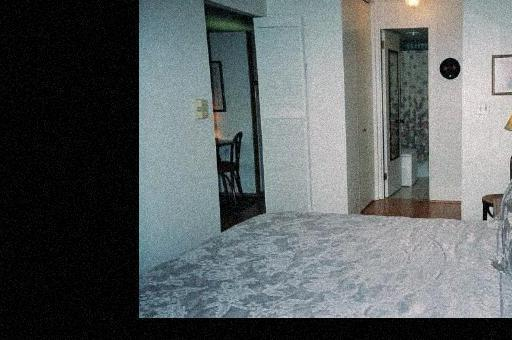Armario: (355, 0, 376, 207)
Puerta: (255, 17, 305, 208), (382, 33, 400, 191)
